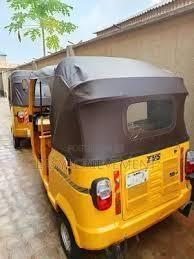keke: (24, 52, 194, 256)
